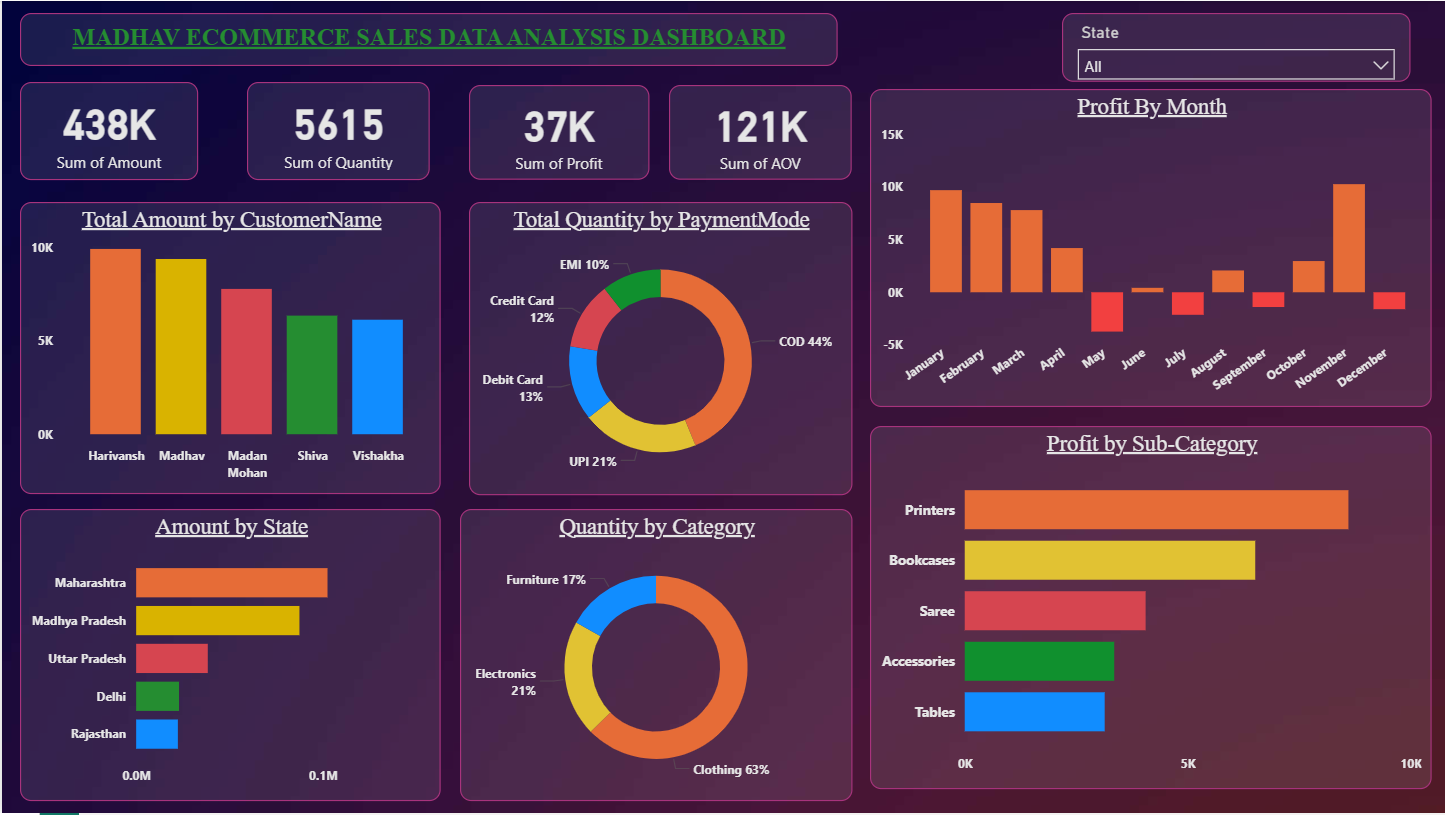

The page's visual inventory and layout, read from the dashboard file:
{"tool":"powerbi","page":{"name":"Page 1","canvas":[1280,720],"ordinal":0},"visuals":[{"type":"textbox","box":[16,10.6,725.3,47],"z":0},{"type":"columnChart","title":"Profit By Month","fields":{"Y":["Sum(Details.Profit)"],"Category":["Orders.Order Date.Variation.Date Hierarchy.Month"]},"box":[769.7,78,498.3,282],"z":1000},{"type":"barChart","title":" Profit by Sub-Category","fields":{"Category":["Details.Sub-Category"],"Y":["Sum(Details.Profit)"]},"box":[769.7,376.8,498.3,321.9],"z":2000},{"type":"donutChart","title":" Quantity by Category","fields":{"Category":["Details.Category"],"Y":["Sum(Details.Quantity)"]},"box":[406.1,450.4,347.6,258.9],"z":3000},{"type":"donutChart","title":"Total Quantity by PaymentMode","fields":{"Category":["Details.PaymentMode"],"Y":["Sum(Details.Quantity)"]},"box":[414.1,178.2,339.6,259.8],"z":4000},{"type":"card","fields":{"Values":["Sum(Details.Amount)"]},"box":[16,71.8,157.8,86.9],"z":5000},{"type":"card","fields":{"Values":["Sum(Details.Quantity)"]},"box":[217.2,71.8,162.3,86.9],"z":6000},{"type":"card","fields":{"Values":["Sum(Details.Profit)"]},"box":[414.1,74.5,159.6,84.2],"z":7000},{"type":"card","fields":{"Values":["Sum(Details.AOV)"]},"box":[591.4,74.5,162.3,84.2],"z":8000},{"type":"barChart","title":" Amount by State","fields":{"Category":["Orders.State"],"Y":["Sum(Details.Amount)"]},"box":[16,450.4,373.3,258.9],"z":9000},{"type":"columnChart","title":"Total Amount by CustomerName","fields":{"Category":["Orders.CustomerName"],"Y":["Sum(Details.Amount)"]},"box":[16,178.2,373.3,258.9],"z":10000},{"type":"slicer","fields":{"Values":["Orders.State"]},"box":[939.9,10.6,309.5,61.2],"z":11000}]}

Visuals, with their boxes in screenshot pixels (x1, y1, x2, y2), scaled from the page's 1280x720 canvas onto the 1445x815 screenshot:
textbox: rect(18, 12, 837, 65)
"Profit By Month" columnChart: rect(869, 88, 1431, 408)
" Profit by Sub-Category" barChart: rect(869, 427, 1431, 791)
" Quantity by Category" donutChart: rect(458, 510, 851, 803)
"Total Quantity by PaymentMode" donutChart: rect(467, 202, 851, 496)
card - Sum(Details.Amount): rect(18, 81, 196, 180)
card - Sum(Details.Quantity): rect(245, 81, 428, 180)
card - Sum(Details.Profit): rect(467, 84, 648, 180)
card - Sum(Details.AOV): rect(668, 84, 851, 180)
" Amount by State" barChart: rect(18, 510, 439, 803)
"Total Amount by CustomerName" columnChart: rect(18, 202, 439, 495)
slicer - Orders.State: rect(1061, 12, 1410, 81)
